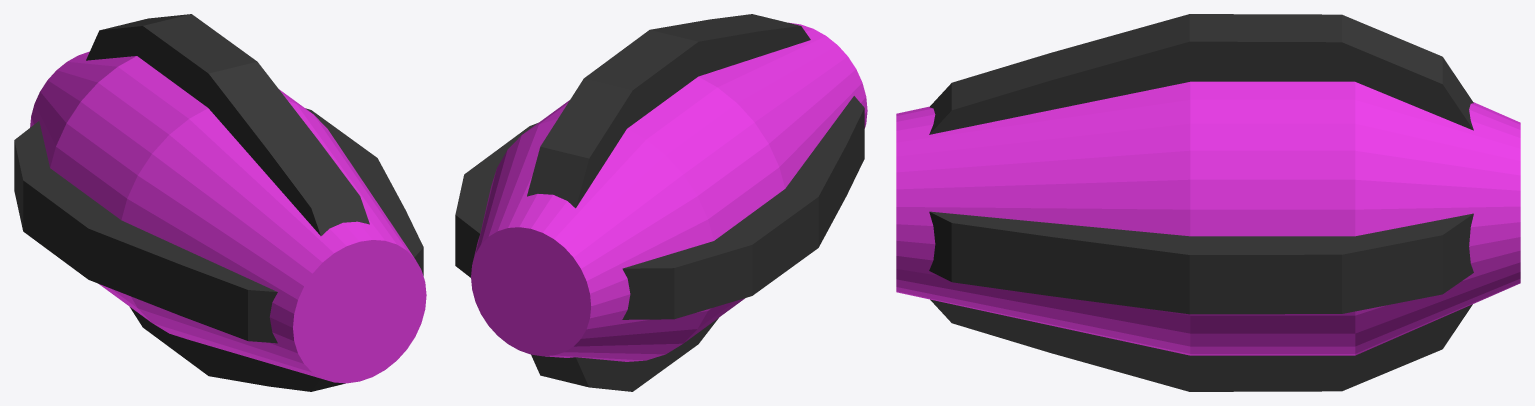
File: spacehoming.fbx
3 renders of one model, left to right at view 1: azimuth 30°, elevation 25°; view 2: azimuth 150°, elevation 25°; view 3: azimuth 270°, elevation 25°, orthographic. The views are drawn at different scales.
Visible parts, largest first — view 1: Cylinder, Cube.001, Cube.004, Cube.002, Cube.003; view 2: Cylinder, Cube.001, Cube.004, Cube.002, Cube.003; view 3: Cylinder, Cube.003, Cube.004, Cube.002.
Boxes of the visible parts, x1,y1,x2,y2 form: Cylinder: (30, 51, 426, 383); Cube.001: (14, 121, 277, 343); Cube.004: (86, 14, 369, 235); Cube.002: (130, 307, 345, 391); Cube.003: (305, 108, 423, 275); Cylinder: (471, 22, 867, 361); Cube.001: (622, 96, 864, 319); Cube.004: (527, 14, 810, 208); Cube.002: (531, 318, 718, 391); Cube.003: (455, 122, 538, 277); Cylinder: (896, 81, 1520, 355); Cube.003: (929, 211, 1473, 314); Cube.004: (929, 14, 1473, 134); Cube.002: (930, 299, 1472, 391).
Size of the model in its own units: 288 by 288 by 466.
